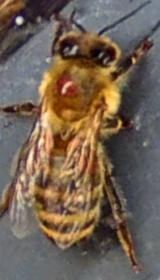varroa_mite: (50, 67, 81, 102)
